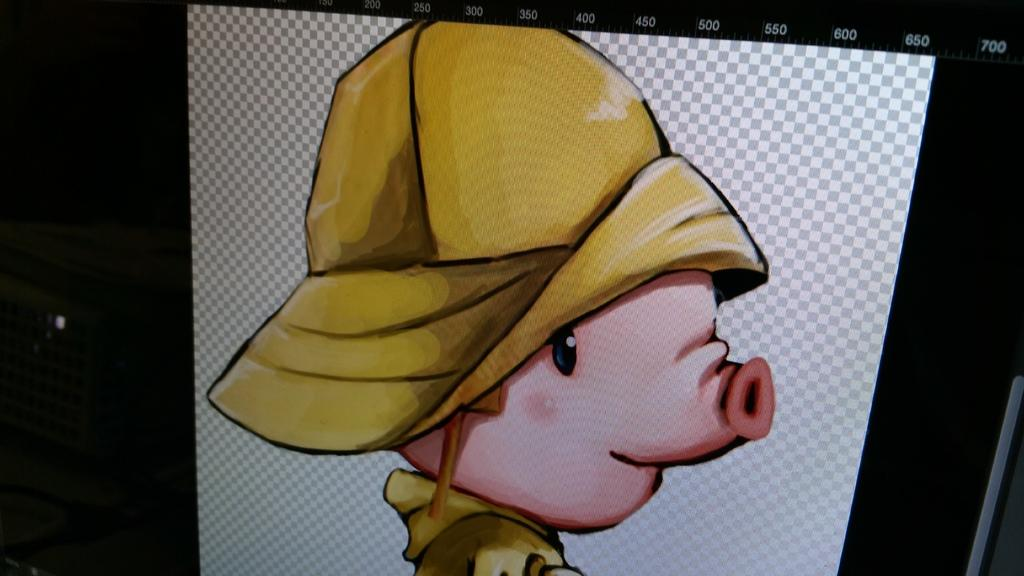Hat: (210, 19, 770, 455)
